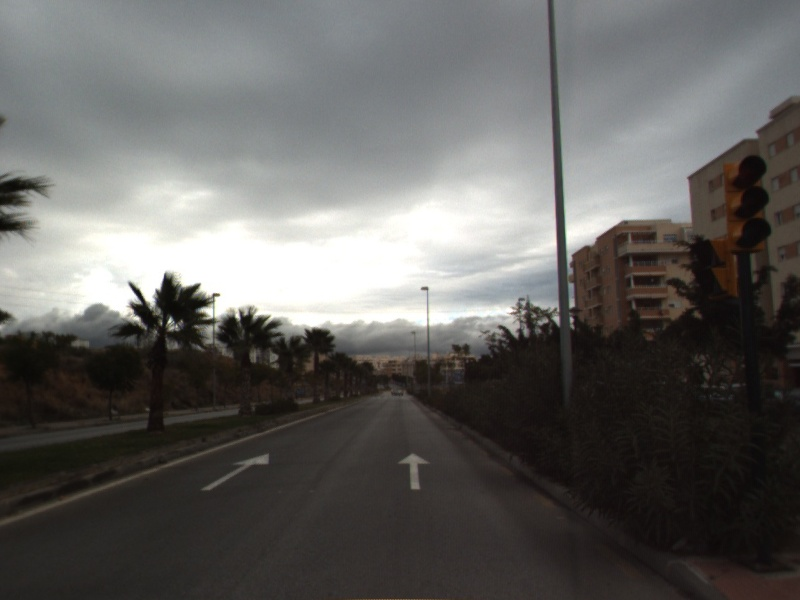STRAIGHT: (199, 451, 271, 492), (396, 451, 433, 491)
